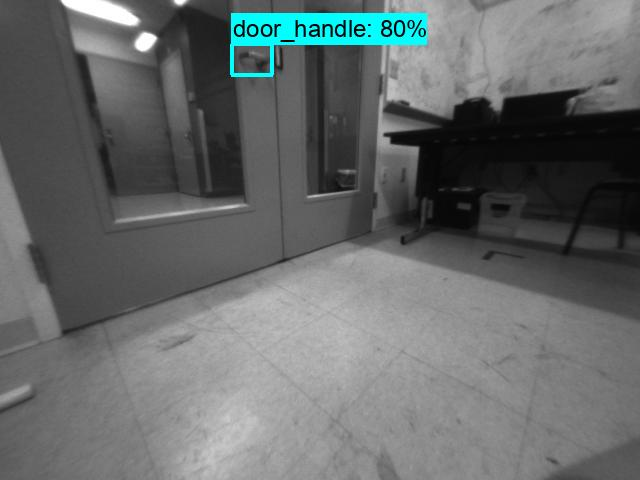door_handle: (230, 44, 269, 73)
